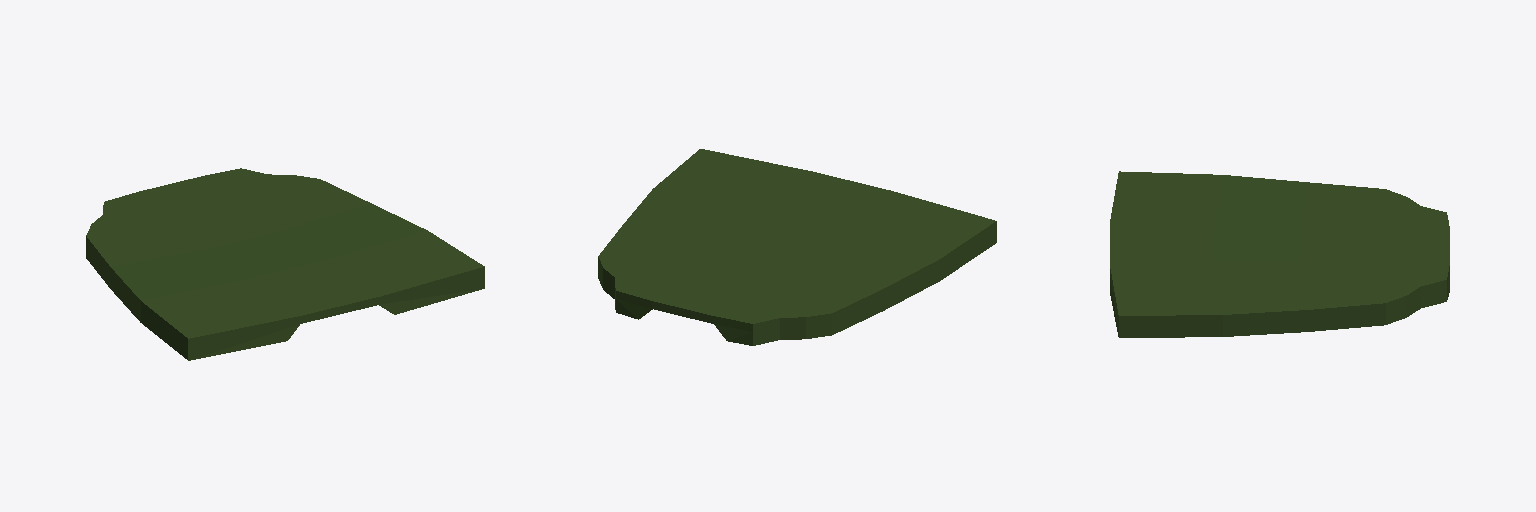
File: strop_1.obj
3 renders of one model, left to right at view 1: azimuth 30°, elevation 25°; view 2: azimuth 150°, elevation 25°; view 3: azimuth 270°, elevation 25°, orthographic.
Parts seen in each view (by area): view 1: Cube.028; view 2: Cube.028; view 3: Cube.028.
Boxes of the visible parts, box(x1,y1,x2,y2) form: Cube.028: box(86, 168, 484, 360); Cube.028: box(598, 149, 996, 345); Cube.028: box(1110, 171, 1449, 337).
Bounding box in the file's own units: 21.38 × 1.69 × 21.28.